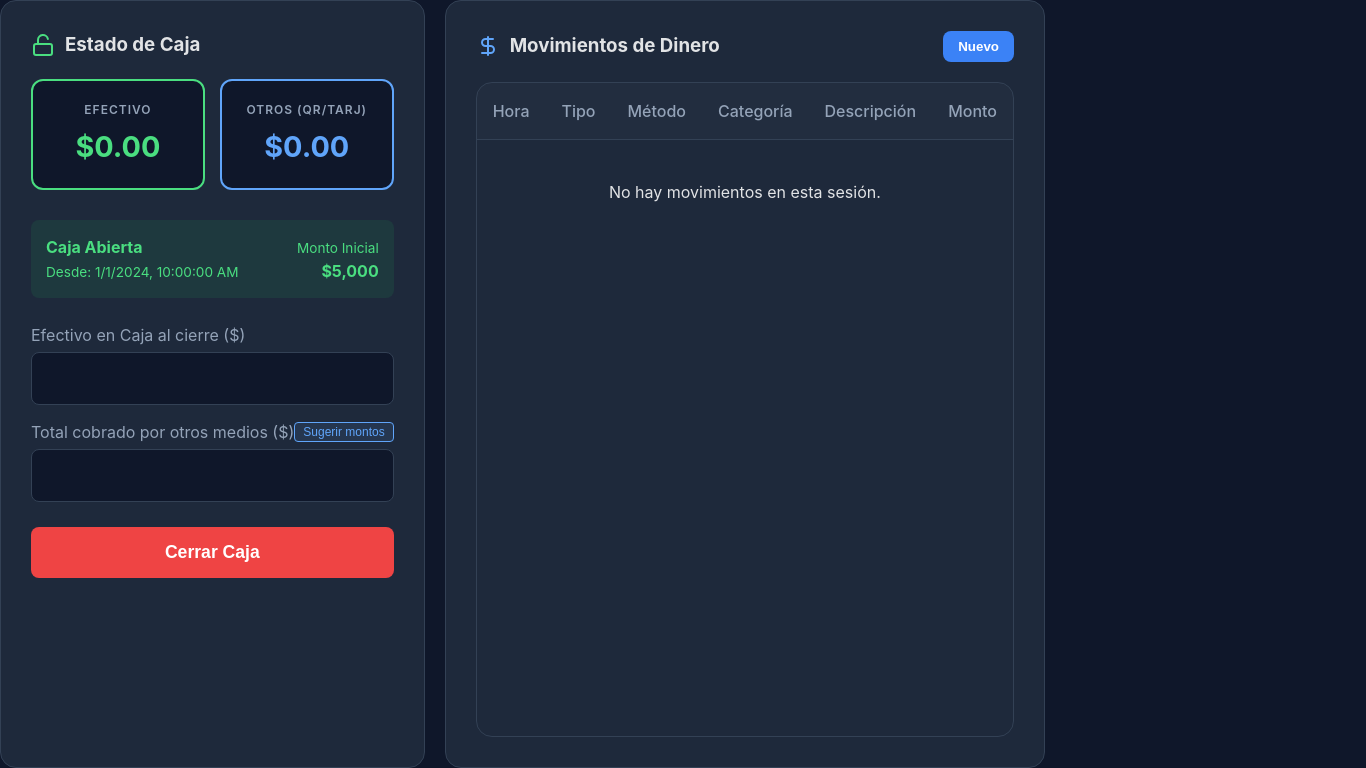
Scenario: Caja – movement modal › opens movement modal when "Nuevo" is clicked
Click the button "Nuevo". click: (979, 46)
box: x1=943 y1=31 x2=1014 y2=62
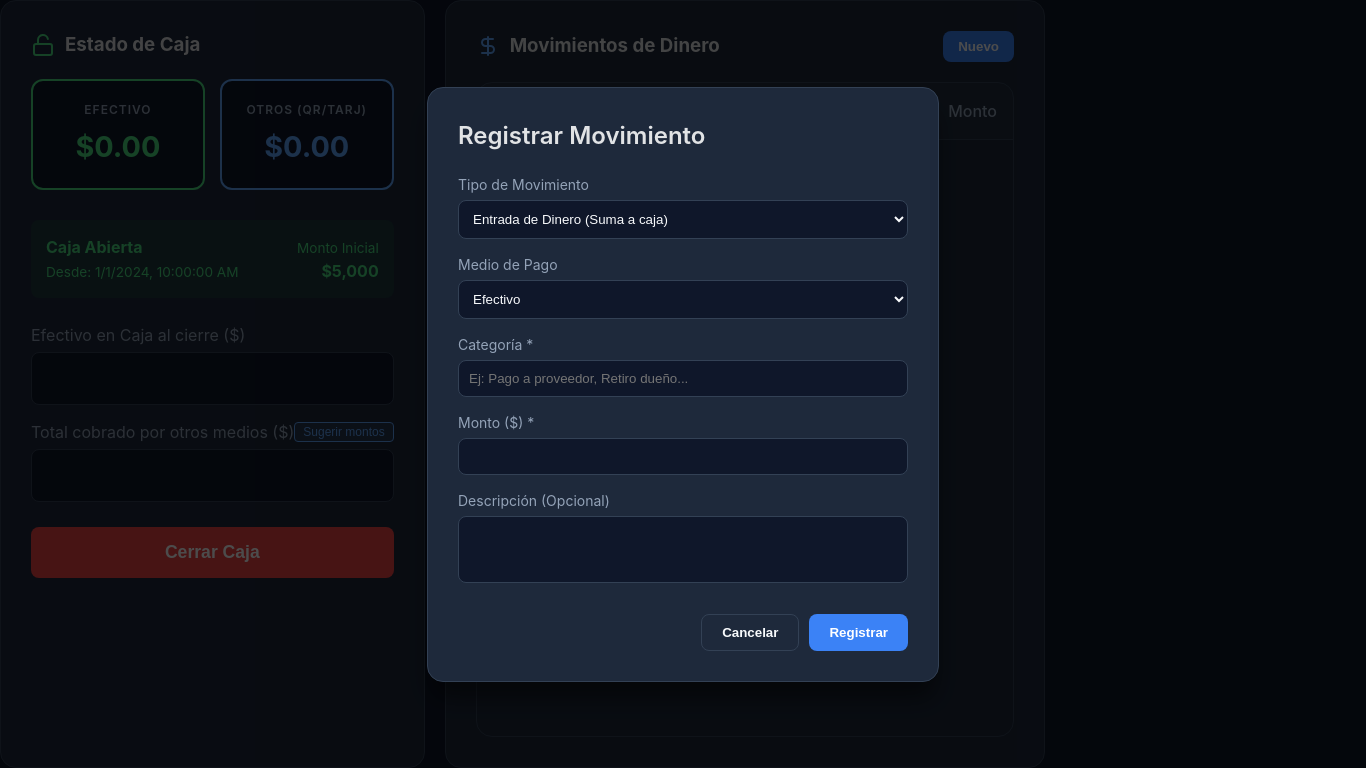
Now the heading "Registrar Movimiento" is shown, box x1=458 y1=120 x2=706 y2=150
